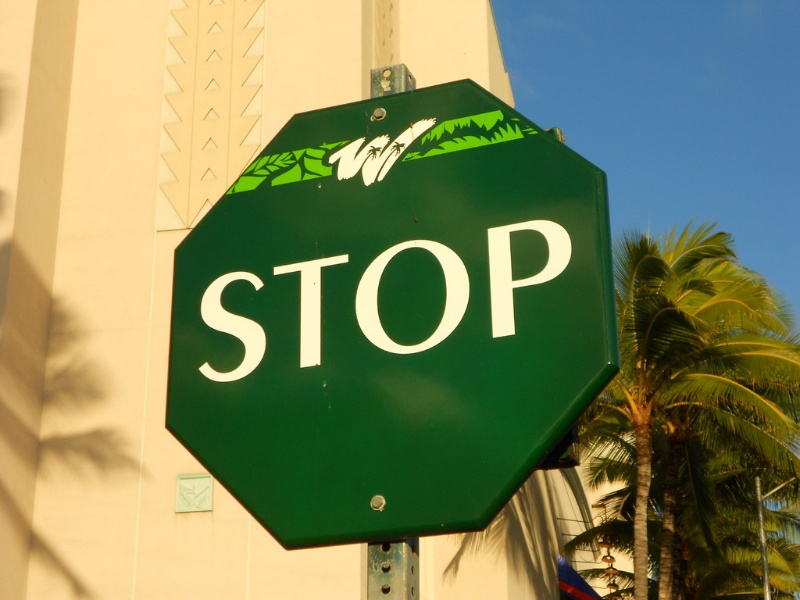stop: (161, 66, 622, 549)
